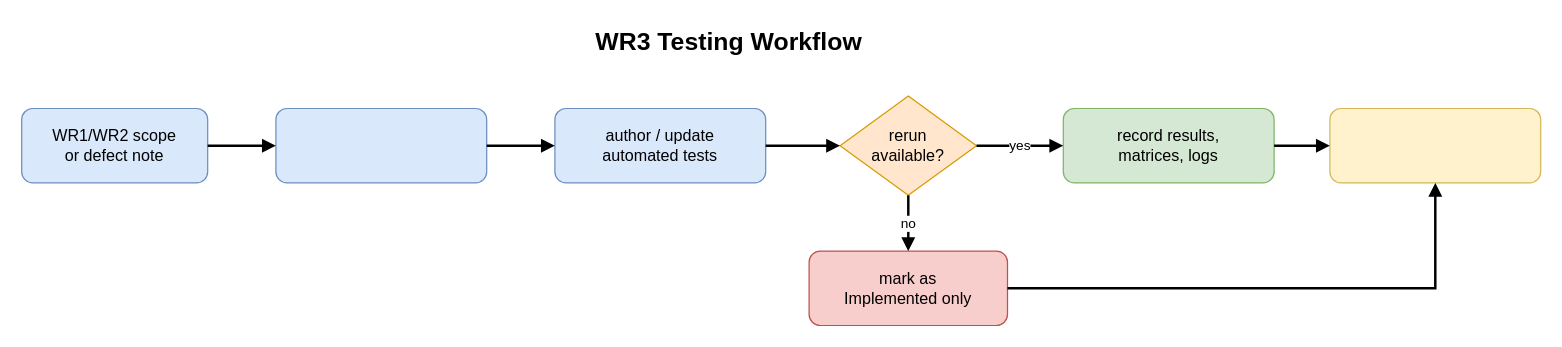
The diagram is 1562 pixels wide and 347 high, and some of its shapes have lost their labels. Each missing label, with the centre of its shape:
feature branch or `test` branch task: pixel 381 145
update WR3 tables and appendix: pixel 1435 145
